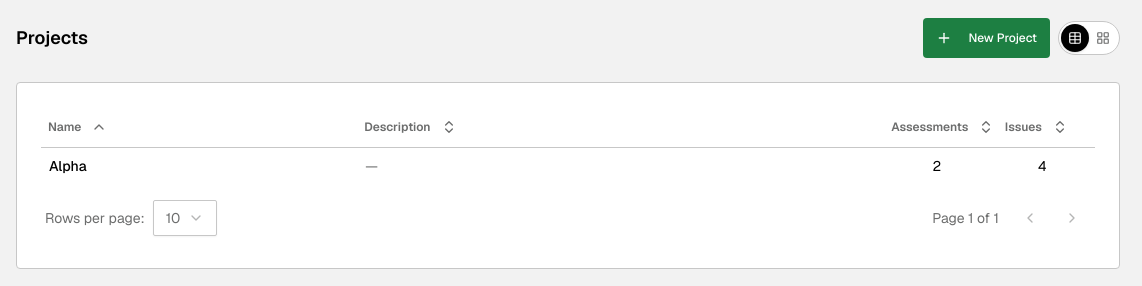
Test: ProjectsListView › switches back to table view
Click the button named "grid view" at (1103, 38), box [1089,24,1117,52]
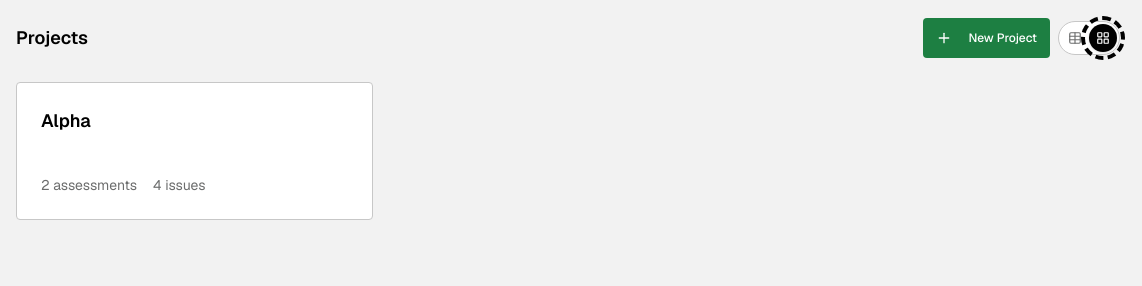
Click the button named "table view" at (1075, 38), box [1061,24,1089,52]
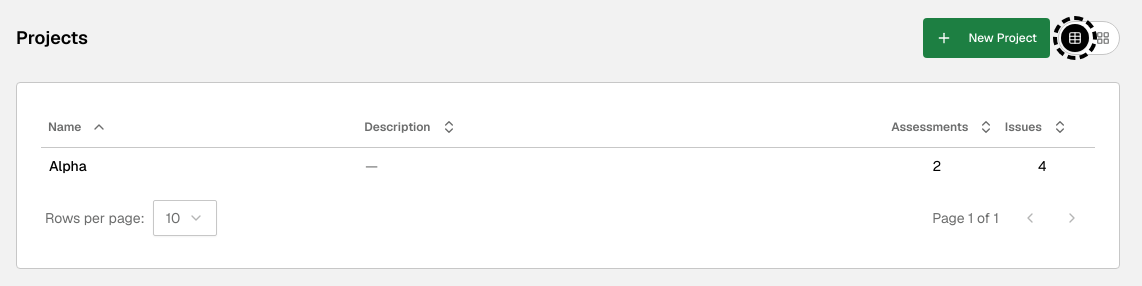
Expected: the table is shown, [41,107,1095,184]
